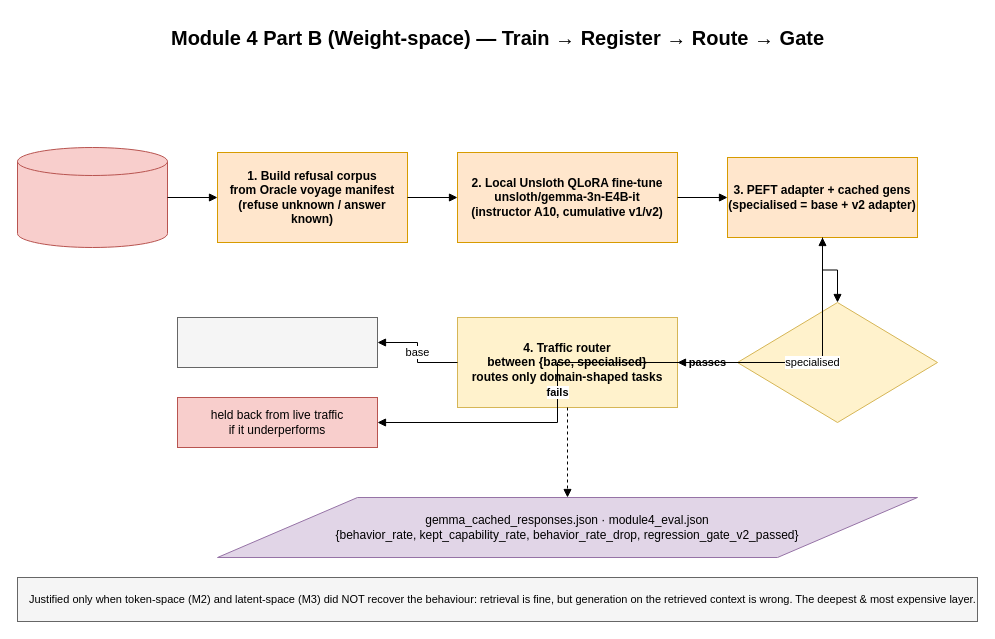
The diagram is 995 pixels wide and 639 high, and some of its shapes have lost their labels. The shapes that lost their labels are listed below. From the top down, each one's box as (x1, y1, x2, y2) in pixels, then its label:
(16, 146, 168, 248): Agent trajectories (Oracle AI DB 26ai)
(176, 316, 378, 368): base Gemma 3n E4B (stock)
(736, 302, 938, 422): 5. Regression gate v2 behavior_rate_drop ≥ 0.5 AND kept_capability ≥ 0.85
